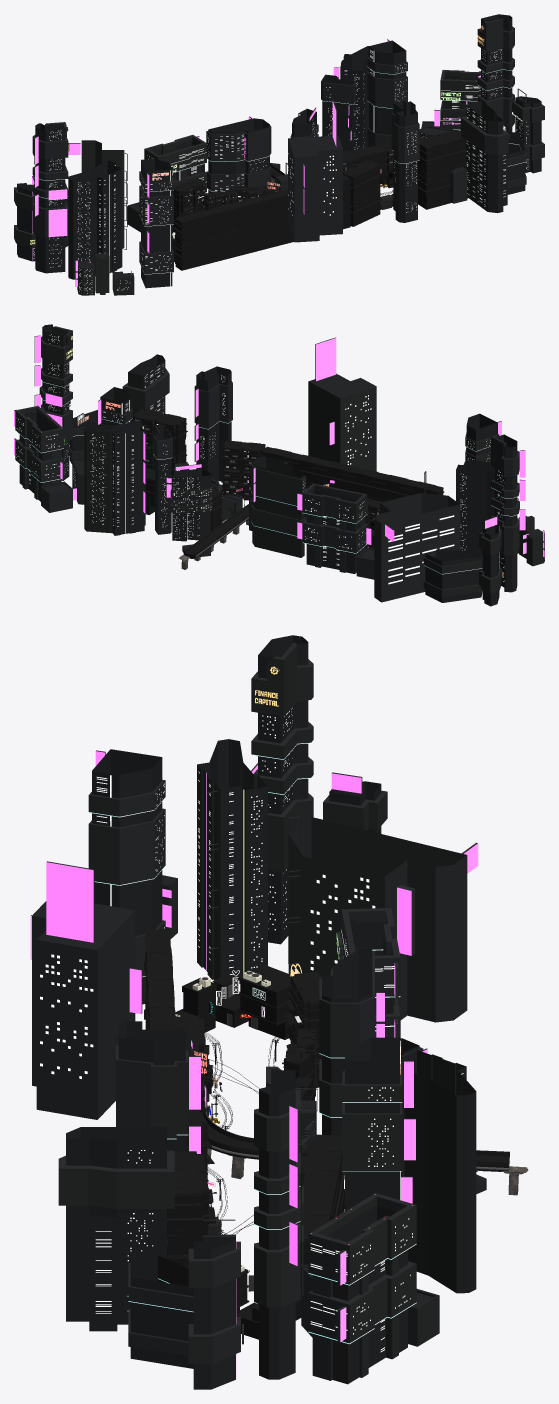
File: cyberpunk.glb
3 views of the same model, one above another, from view 1: azimuth 30°, elevation 25°; view 2: azimuth 150°, elevation 25°; view 3: azimuth 270°, elevation 25° (orthographic). The views are drawn at different scales.
Parts seen in each view (by area): view 1: Object_7, Cube.091, Cube.069, Cube.073, Cube.072, Cube.006; view 2: Object_7, Cube.091, Cube.073, Cube.069, Cube, Cube.072; view 3: Object_7, Cube.072, Cube.069, Cube.091, Object_172, Cube.006, Cube, Object_90, Cube.004.
Part boxes in pixels (left/top/right/bottom): Object_7: left=14, top=14, right=544, bottom=295; Cube.091: left=173, top=175, right=351, bottom=270; Cube.069: left=418, top=130, right=467, bottom=209; Cube.073: left=343, top=161, right=381, bottom=226; Cube.072: left=343, top=136, right=422, bottom=188; Cube.006: left=172, top=178, right=206, bottom=232; Object_7: left=14, top=324, right=544, bottom=606; Cube.091: left=262, top=446, right=444, bottom=501; Cube.073: left=221, top=440, right=265, bottom=500; Cube.069: left=132, top=409, right=187, bottom=476; Cube: left=183, top=504, right=248, bottom=558; Cube.072: left=145, top=467, right=223, bottom=530; Object_7: left=30, top=635, right=486, bottom=1389; Cube.072: left=296, top=1134, right=344, bottom=1284; Cube.069: left=167, top=1151, right=217, bottom=1268; Cube.091: left=144, top=929, right=176, bottom=1029; Object_172: left=237, top=965, right=290, bottom=1039; Cube.006: left=284, top=972, right=321, bottom=1087; Cube: left=200, top=1106, right=509, bottom=1171; Object_90: left=175, top=977, right=216, bottom=1032; Cube.004: left=175, top=1016, right=209, bottom=1115.
Size of the model in its own units: 412 by 124 by 182.
83 materials, 10 textured.
